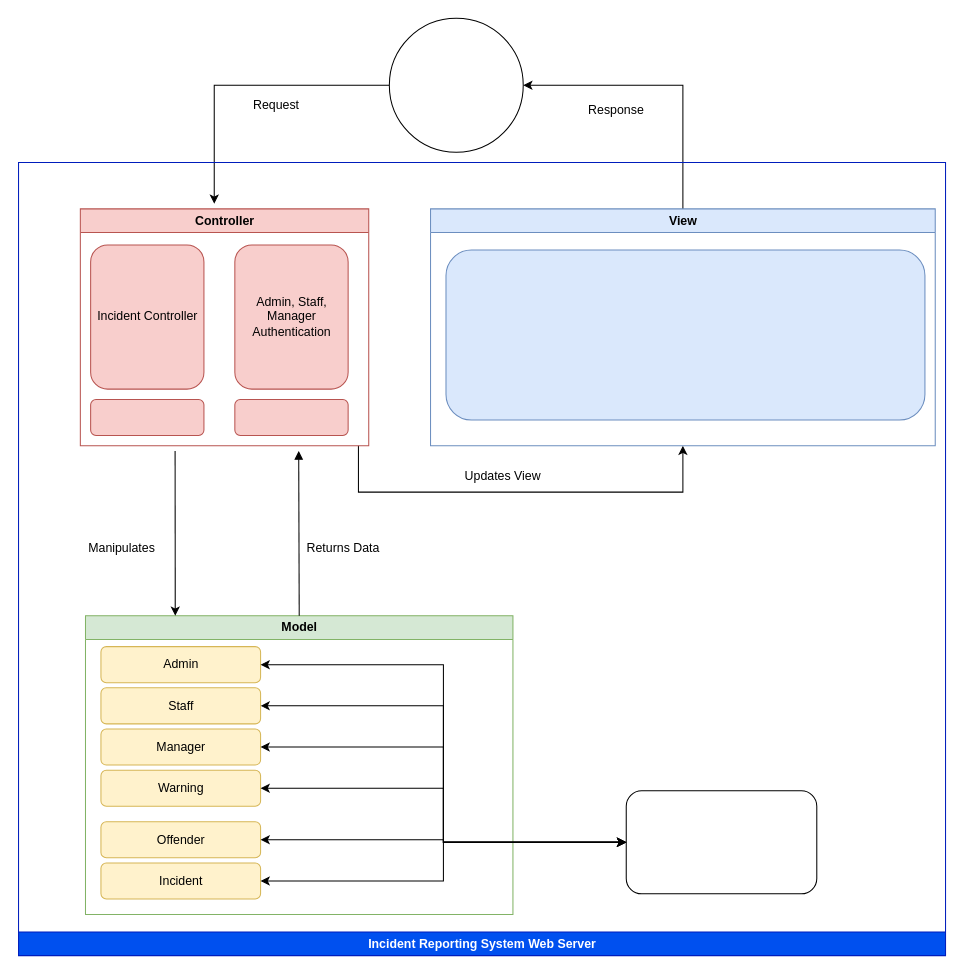
This 963x973 diagram has some shape labels left out. Each missing label, with the box of its shape:
Client: (388, 17, 523, 152)
Mongo Database: (625, 790, 817, 894)
Offender Controller: (234, 398, 348, 435)
Warning Controller: (90, 398, 204, 435)
Warning page: (445, 249, 925, 420)
